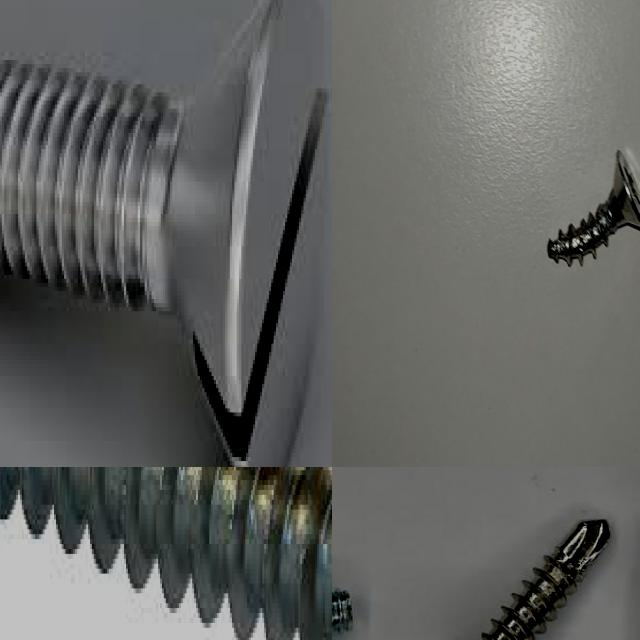Screw: (0, 0, 332, 467), (0, 467, 332, 640), (478, 519, 610, 640), (547, 150, 640, 265)
